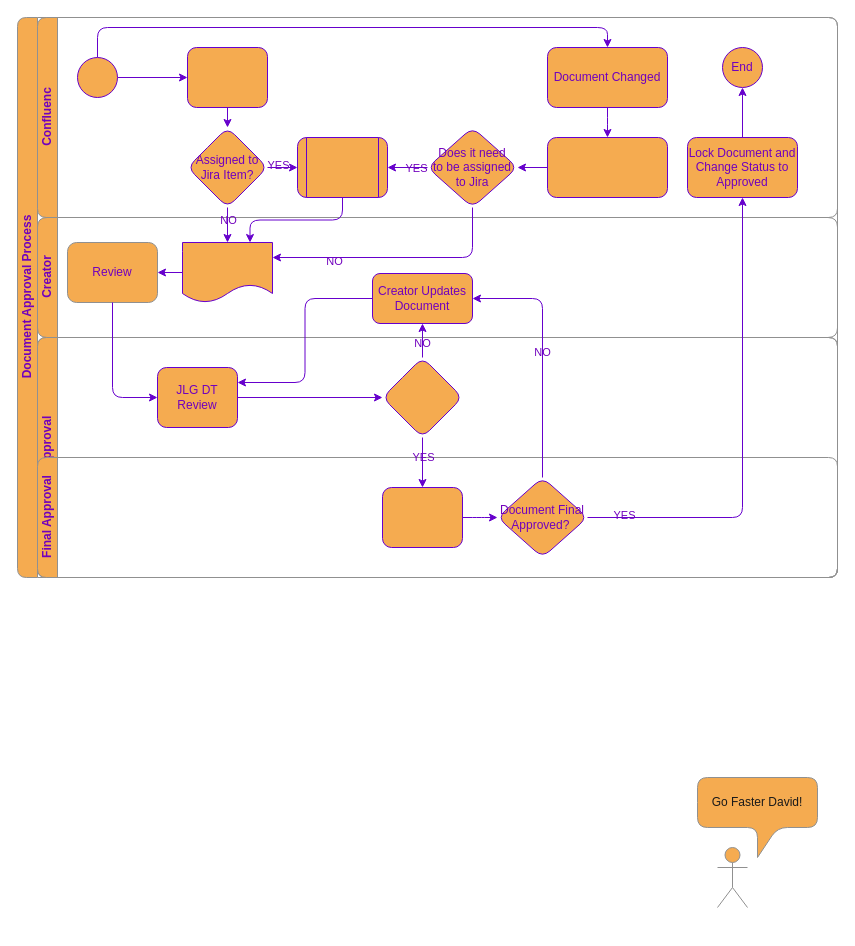
The diagram is 855 pixels wide and 946 high, and some of its shapes have lost their labels. The shapes that lost their labels are listed below. From the top down, each one's centre as x and y in pixels, then its label:
At (x=97, y=77): "Start".
At (x=227, y=77): "Document Created".
At (x=342, y=167): "Assign to Jira Item".
At (x=607, y=167): "Status Change to Draft".
At (x=227, y=272): "Draft Document".
At (x=422, y=397): "Document Approved?".
At (x=422, y=517): "JLG Final DT Review".
At (x=732, y=877): "Mini Me".
